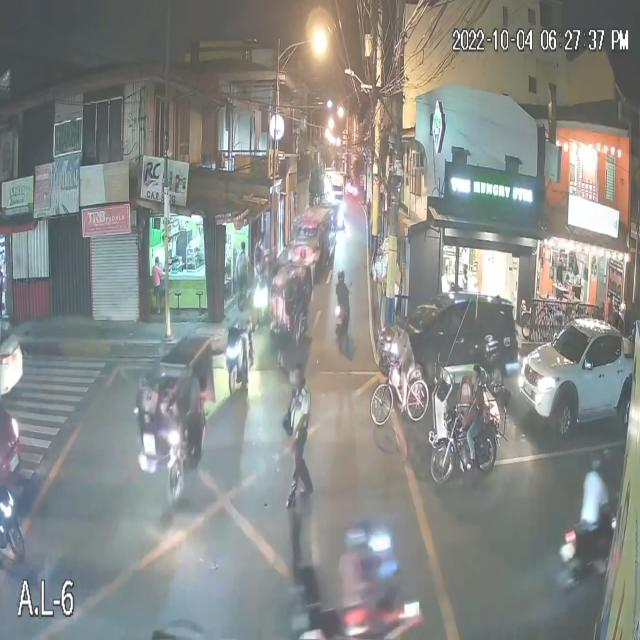Full-Faced: (338, 515, 374, 564), (585, 444, 610, 481), (338, 266, 351, 288)
